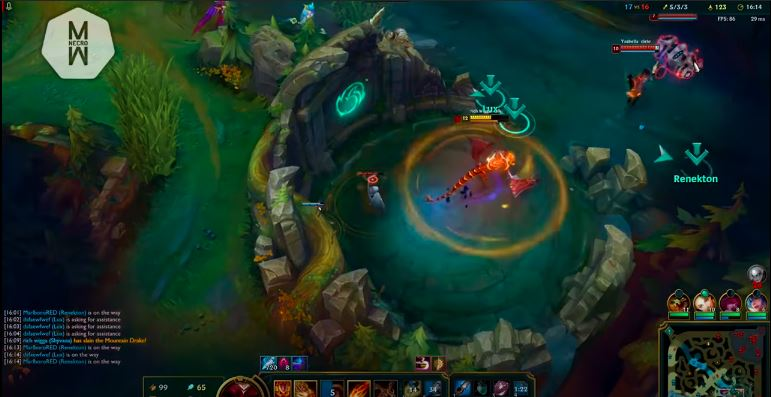bar: (610, 41, 664, 55), (646, 11, 704, 24), (456, 112, 511, 123)
